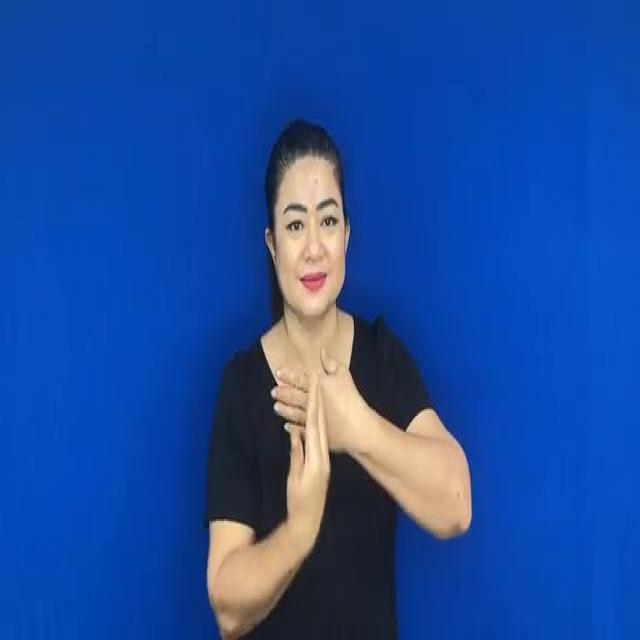bread: (266, 349, 366, 546)
